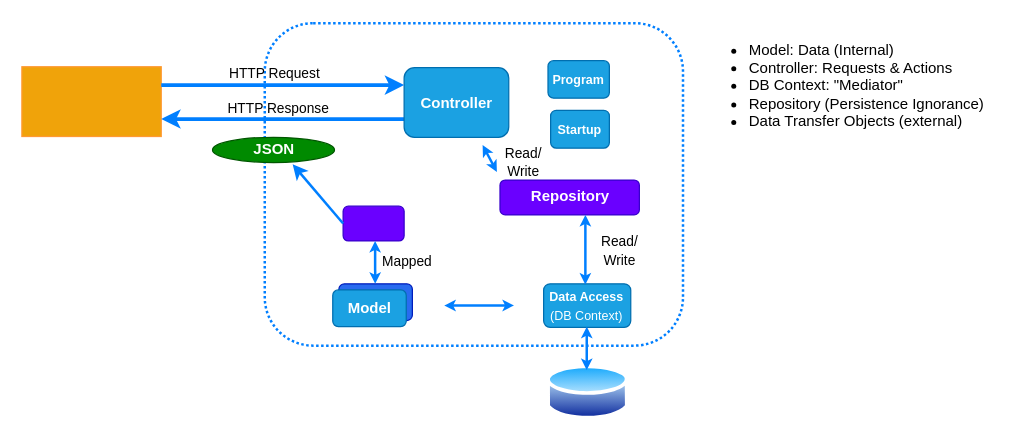
Image size: 1019x444. Some labels were removed from this diagram. Each missing label, with the centre of its shape:
"API Client (e.g Postman)" goes at pixel 91 101.
"DTO" goes at pixel 373 223.
"SQL Server DB" goes at pixel 587 392.
